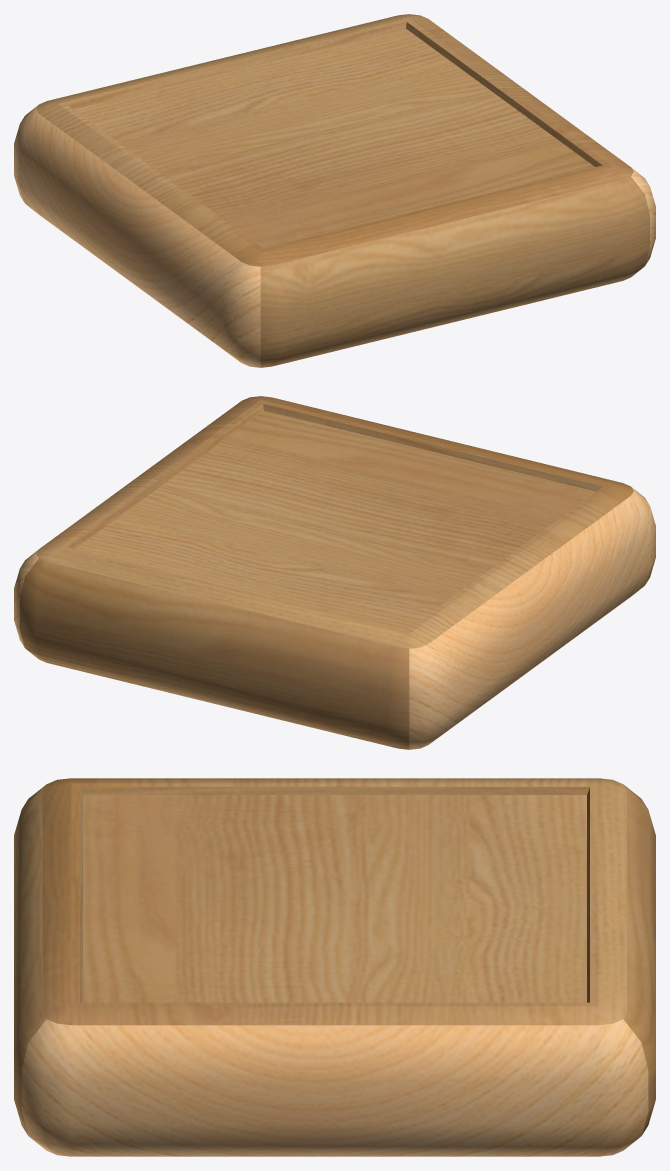
File: CoasterPanel.FBX
The picture shows the model from 3 angles, top to bottom: view 1: azimuth 30°, elevation 25°; view 2: azimuth 150°, elevation 25°; view 3: azimuth 270°, elevation 25°; orthographic projection. The views are drawn at different scales.
Parts seen in each view (by area): view 1: ChamferBox001; view 2: ChamferBox001; view 3: ChamferBox001.
Boxes of the visible parts, x1=… form: ChamferBox001: x1=14, y1=14, x2=655, y2=367; ChamferBox001: x1=14, y1=396, x2=655, y2=749; ChamferBox001: x1=14, y1=778, x2=655, y2=1156.
Size of the model in its own units: 20 by 5 by 20.
1 material, 1 textured.
